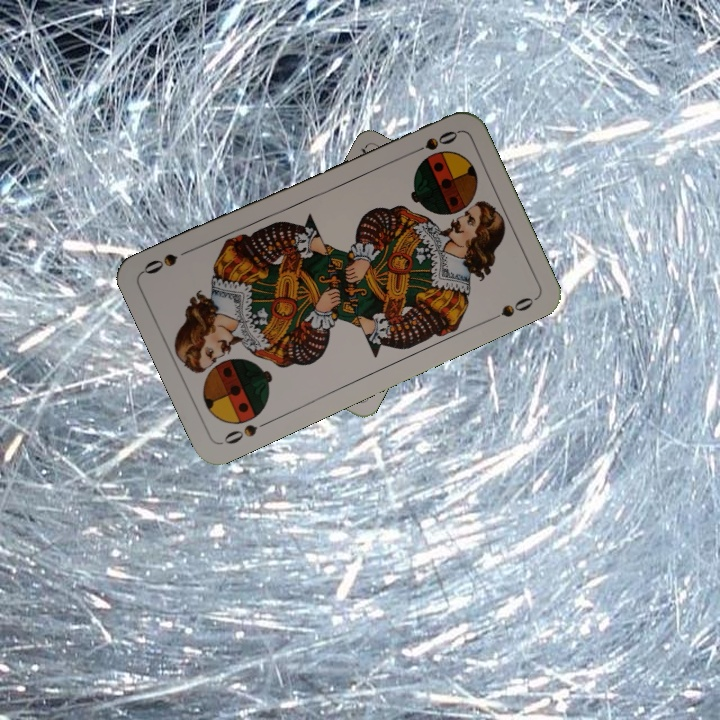SO: (405, 126, 461, 158), (219, 416, 274, 447)
